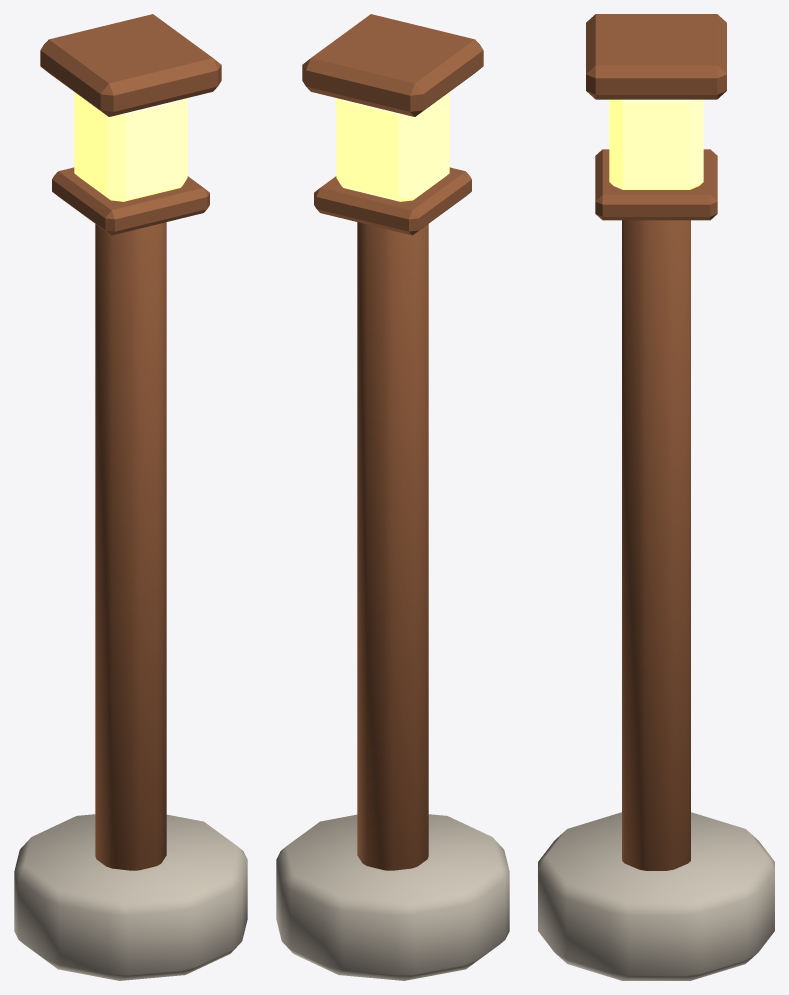
The picture shows the model from 3 angles, left to right: view 1: azimuth 30°, elevation 25°; view 2: azimuth 150°, elevation 25°; view 3: azimuth 270°, elevation 25°; orthographic projection.
Visible parts, largest first — view 1: toasted_wood, Lamp_Foot, Lantern_Core; view 2: toasted_wood, Lamp_Foot, Lantern_Core; view 3: toasted_wood, Lamp_Foot, Lantern_Core.
Boxes of the visible parts, box(x1,y1,x2,y2) form: toasted_wood: box(40, 14, 221, 870); Lamp_Foot: box(14, 814, 247, 980); Lantern_Core: box(74, 92, 187, 201); toasted_wood: box(302, 14, 483, 870); Lamp_Foot: box(276, 814, 509, 980); Lantern_Core: box(336, 92, 449, 201); toasted_wood: box(586, 14, 726, 870); Lamp_Foot: box(538, 812, 774, 980); Lantern_Core: box(609, 99, 703, 189).
Size of the model in its own units: 0.4185 by 1.79 by 0.4276.
